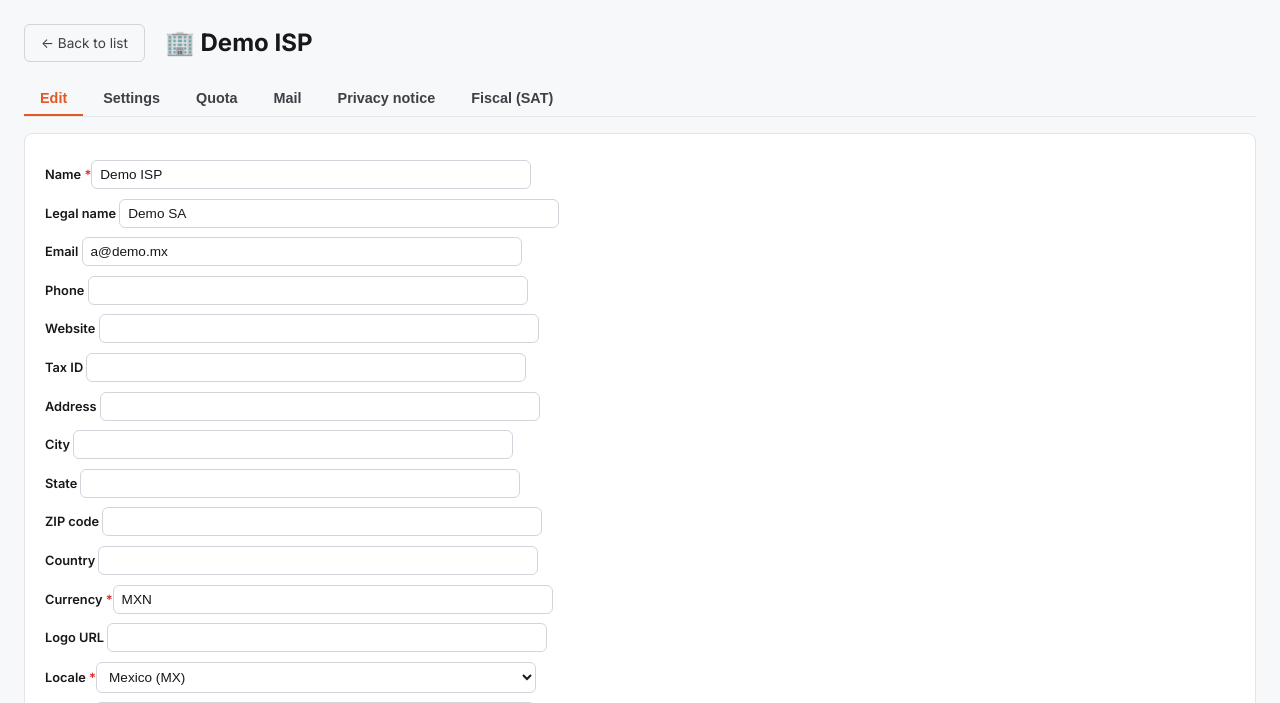
OrganizationDetail page › keeps a stored régimen visible when it is missing from the SAT catalog
Check: the heading "🏢 Demo ISP" is shown, box [165,25,312,61]
Click the button "Fiscal (SAT)" at (512,99), box [455,82,569,116]
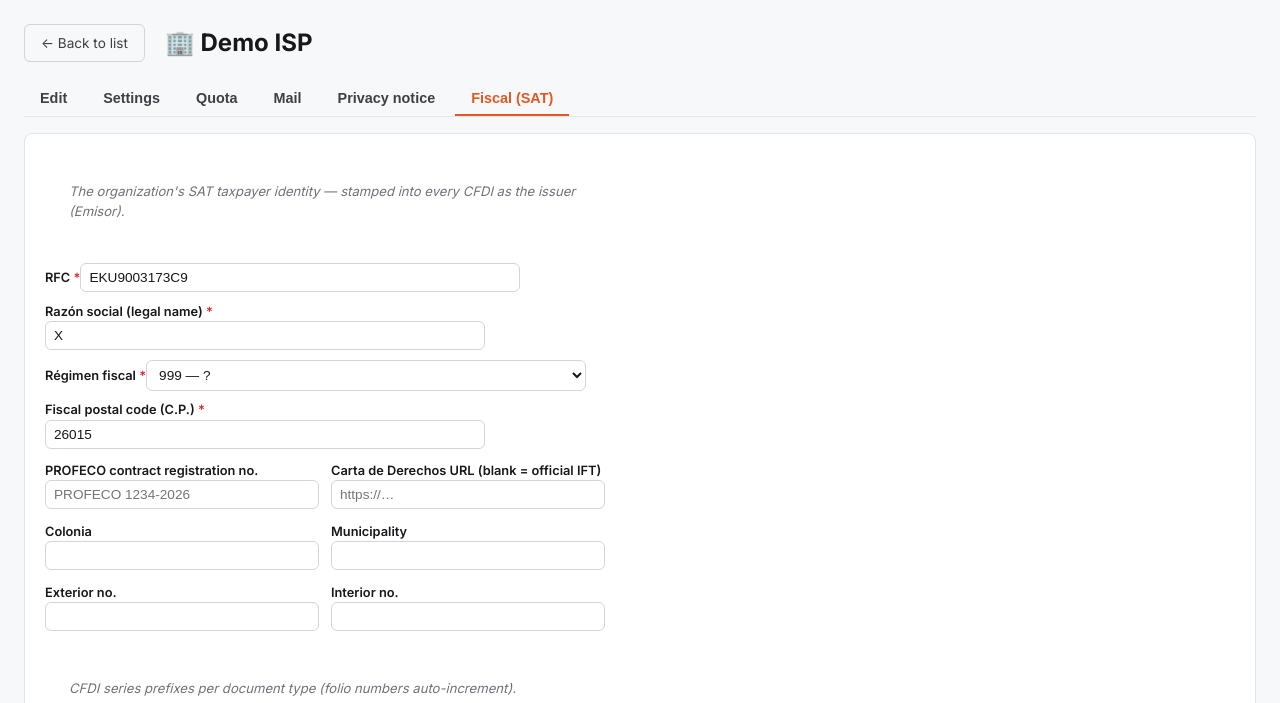
Check: the dropdown labelled "Régimen fiscal *" shows "999 — ?", box [146,360,586,391]
